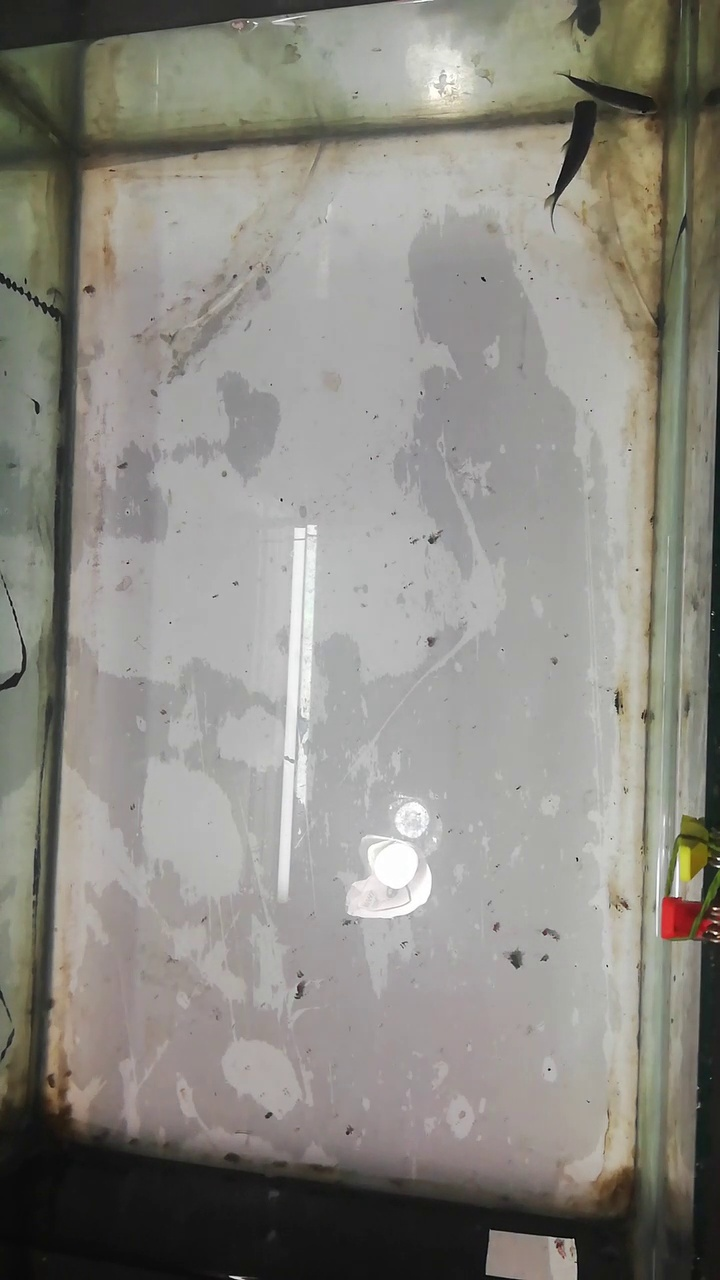fish1: (556, 96, 595, 221)
fish2: (568, 73, 659, 111)
